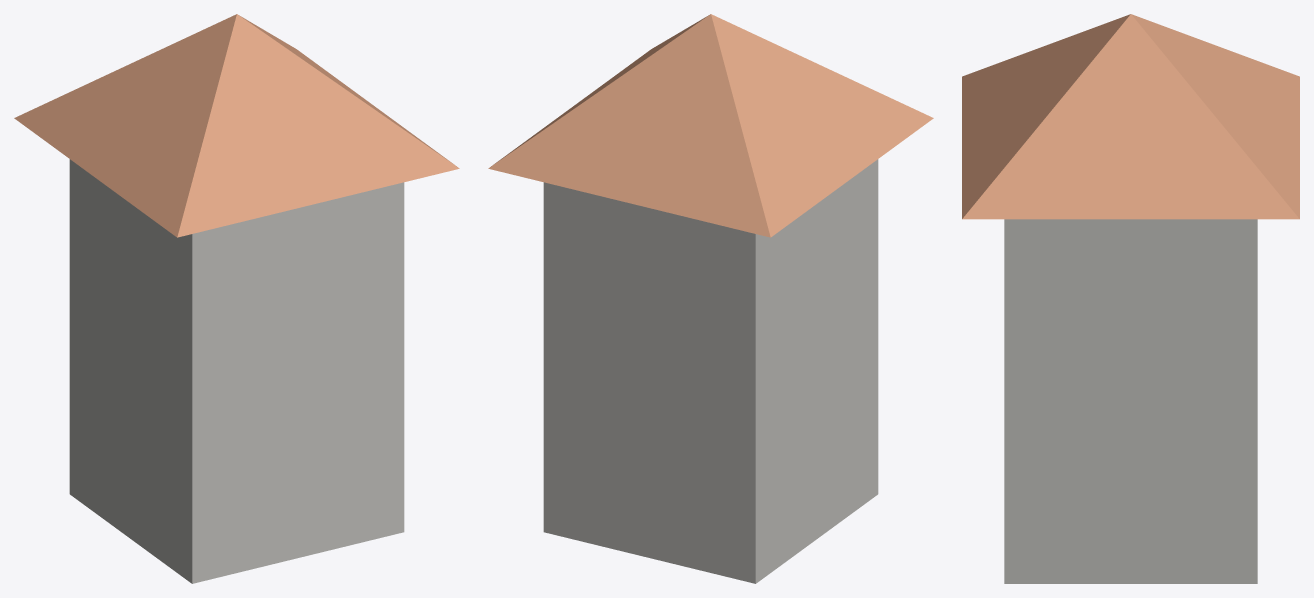
File: VJ_Chimenea.fbx
3 views of the same model, side by side, from view 1: azimuth 30°, elevation 25°; view 2: azimuth 150°, elevation 25°; view 3: azimuth 270°, elevation 25° (orthographic). The views are drawn at different scales.
Visible parts, largest first — view 1: VJ_Chimenea; view 2: VJ_Chimenea; view 3: VJ_Chimenea.
Part boxes in pixels (<box>): VJ_Chimenea: <box>14,14,459,583</box>; VJ_Chimenea: <box>488,14,933,583</box>; VJ_Chimenea: <box>962,14,1299,583</box>.
Bounding box in the file's own units: 0.8 × 1.35 × 0.8.
